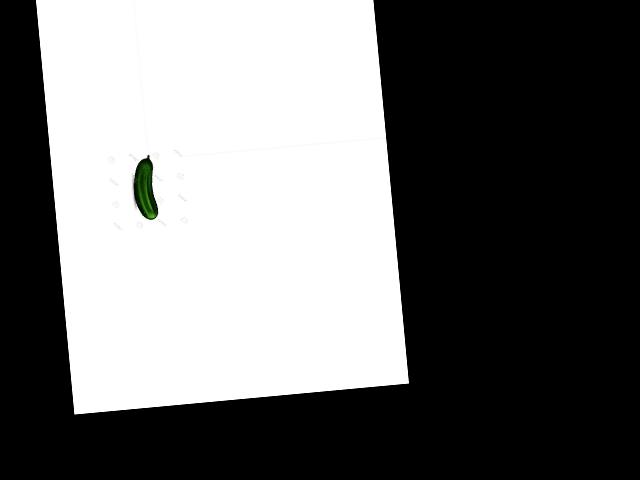cucumber: (130, 155, 158, 221)
